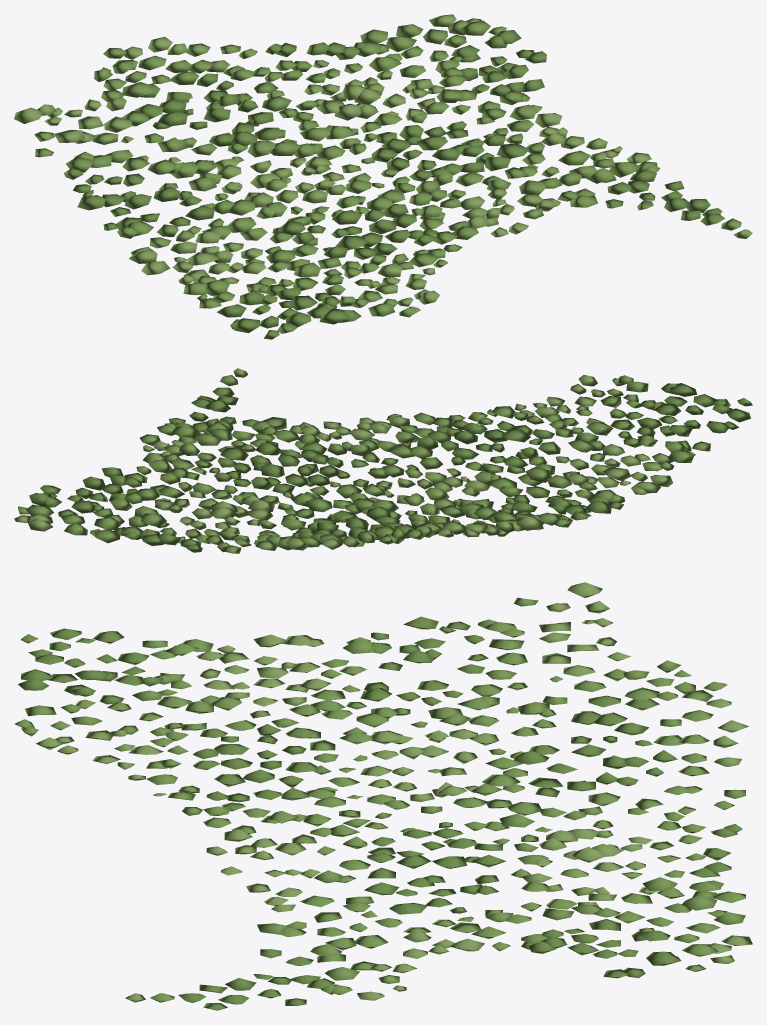
Rendered from canopy-1--2-1.glb.
3 renders of one model, top to bottom at view 1: azimuth 30°, elevation 25°; view 2: azimuth 150°, elevation 25°; view 3: azimuth 270°, elevation 25°, orthographic. The views are drawn at different scales.
Bounding box in the file's own units: 512 × 105 × 518.
Materials: 1 (1 with a texture image).
